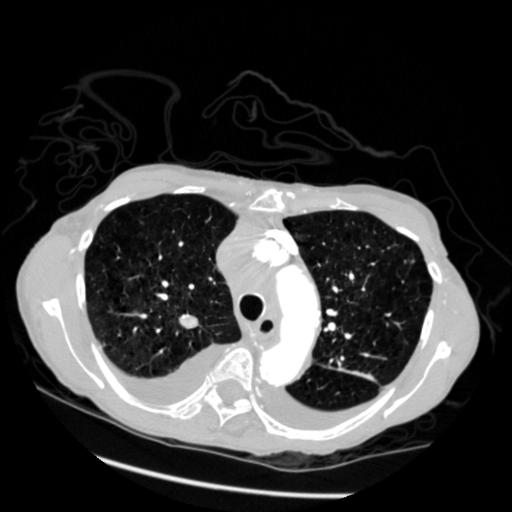nodule: (176, 310, 201, 335)
